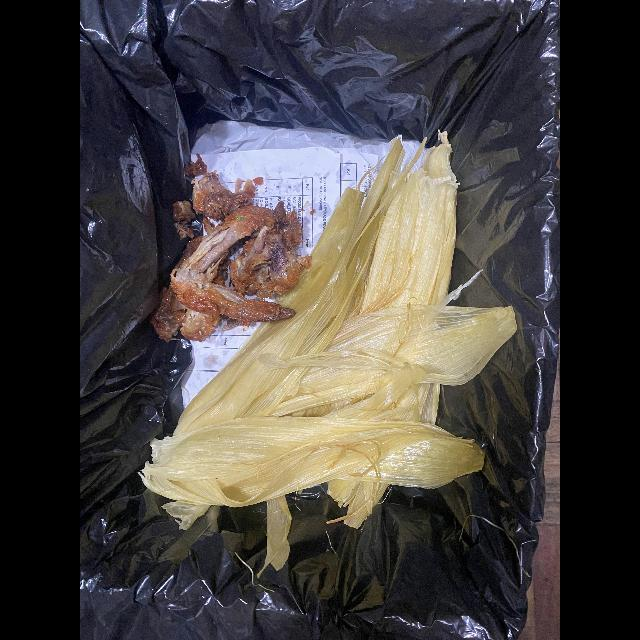left_over_food: (151, 150, 309, 341), (224, 287, 294, 322)
paper: (201, 148, 378, 256), (181, 323, 260, 413)
